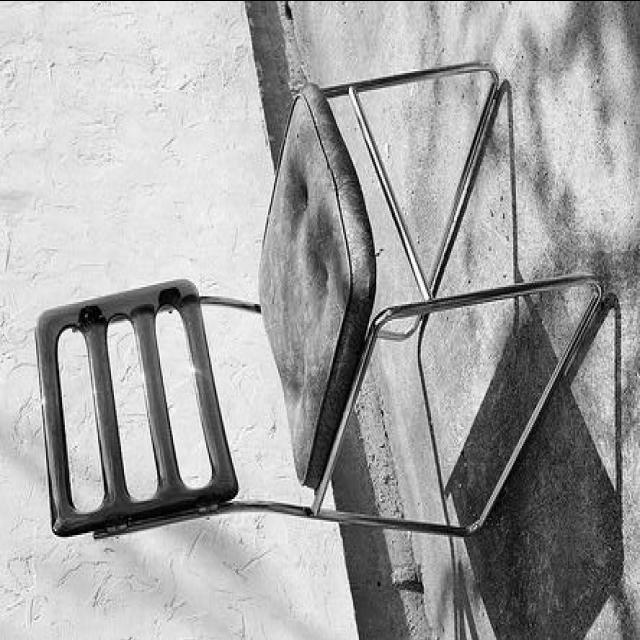chair: (33, 60, 610, 546)
